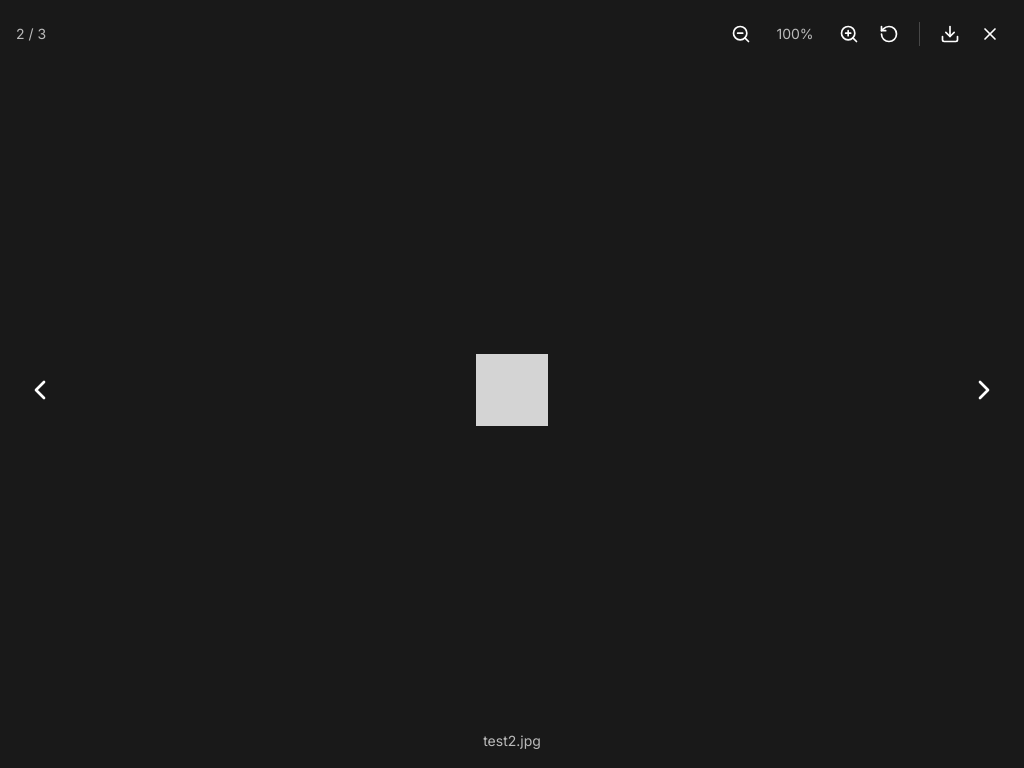
Test: ImageLightbox › navigation › should navigate to previous image when previous button is clicked
Click the button named "Previous image" at (40, 390), box 16,366 -> 64,414
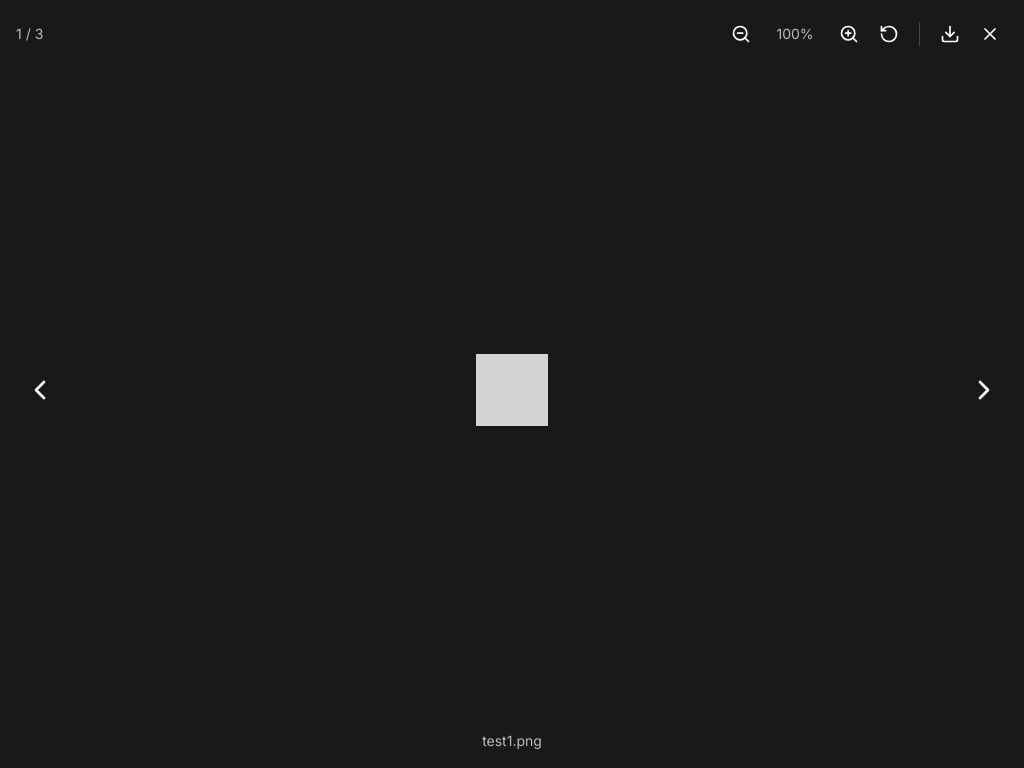
Expected: the text "1 / 3" is shown, 16,24 -> 43,44
